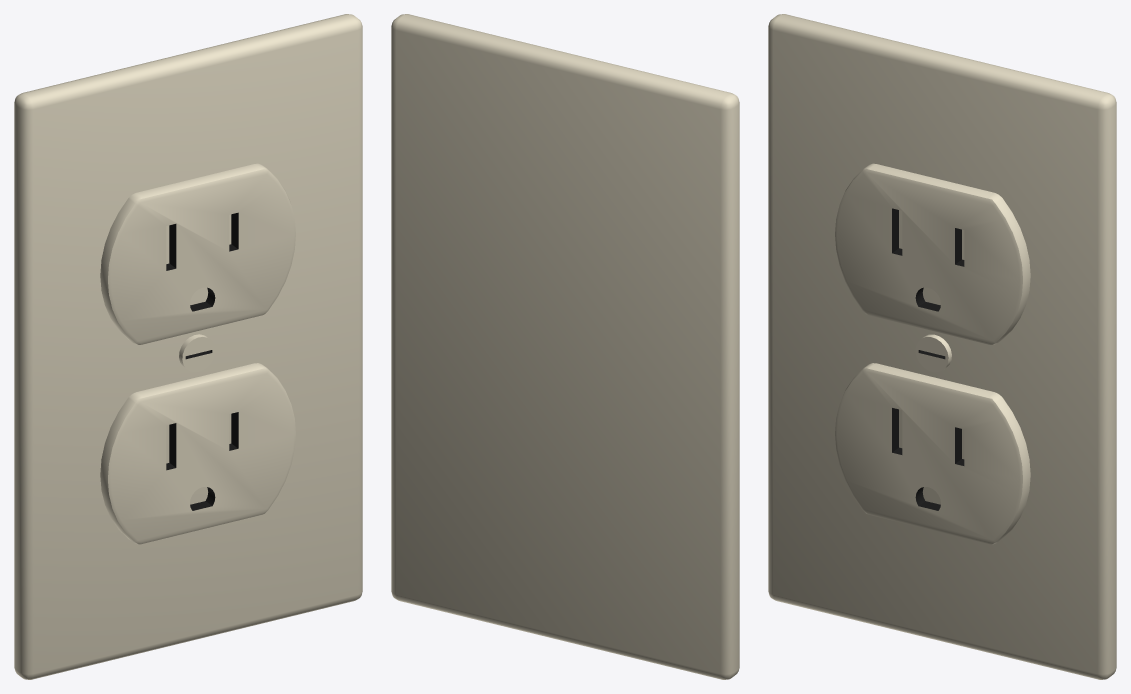
The model's file is outlet_duplex.glb.
3 renders of one model, left to right at view 1: azimuth 30°, elevation 25°; view 2: azimuth 150°, elevation 25°; view 3: azimuth 330°, elevation 25°, orthographic.
Visible parts, largest first — view 1: Outlet; view 2: Outlet; view 3: Outlet.
Boxes of the visible parts, bbox=[...] form: Outlet: bbox=[14, 14, 362, 679]; Outlet: bbox=[391, 14, 739, 679]; Outlet: bbox=[768, 14, 1116, 679].
Size of the model in its own units: 0.07 by 0.114 by 0.0075.
